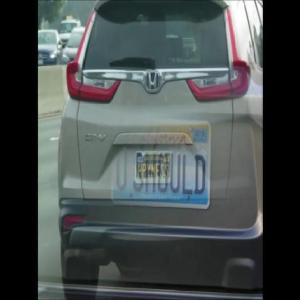Plate: (135, 150, 169, 185)
